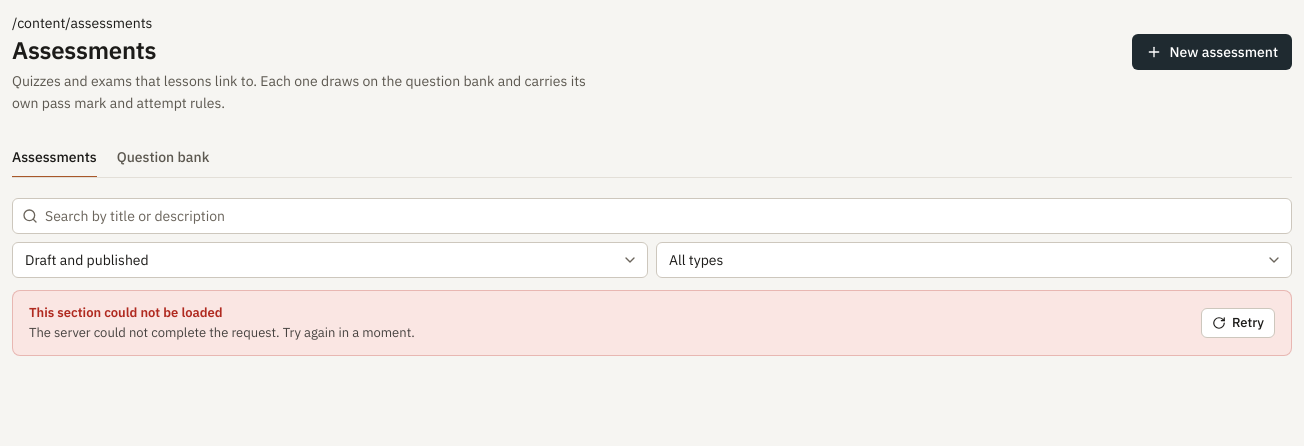
AssessmentsListPage › shows the error and retries
Check: the text "The server could not complete the request. Try again in a moment." is shown, box [29,323,415,343]
Click the button "Retry": point(1238, 323) [1201,308,1275,338]
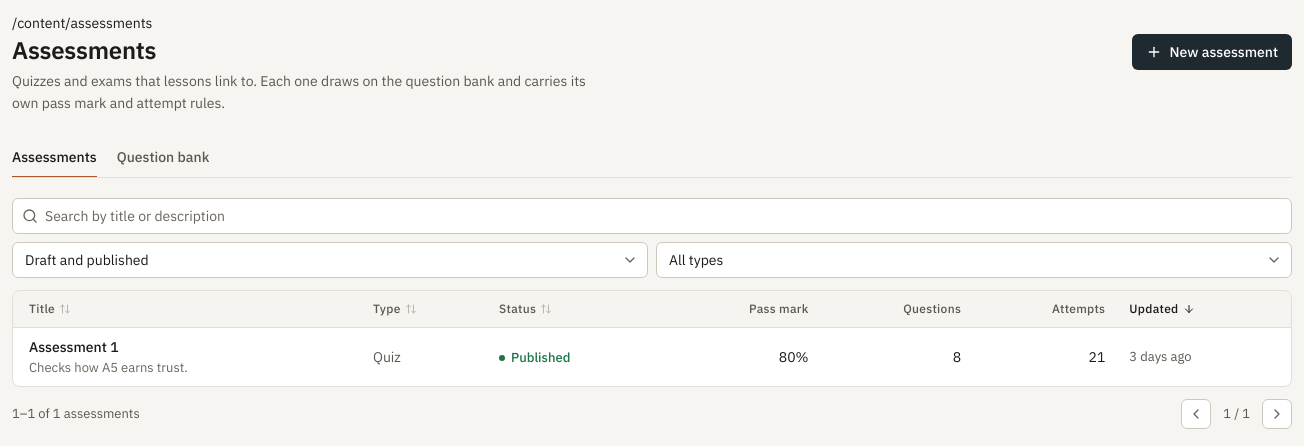
Check: the table is shown, box [13,291,1291,386]
